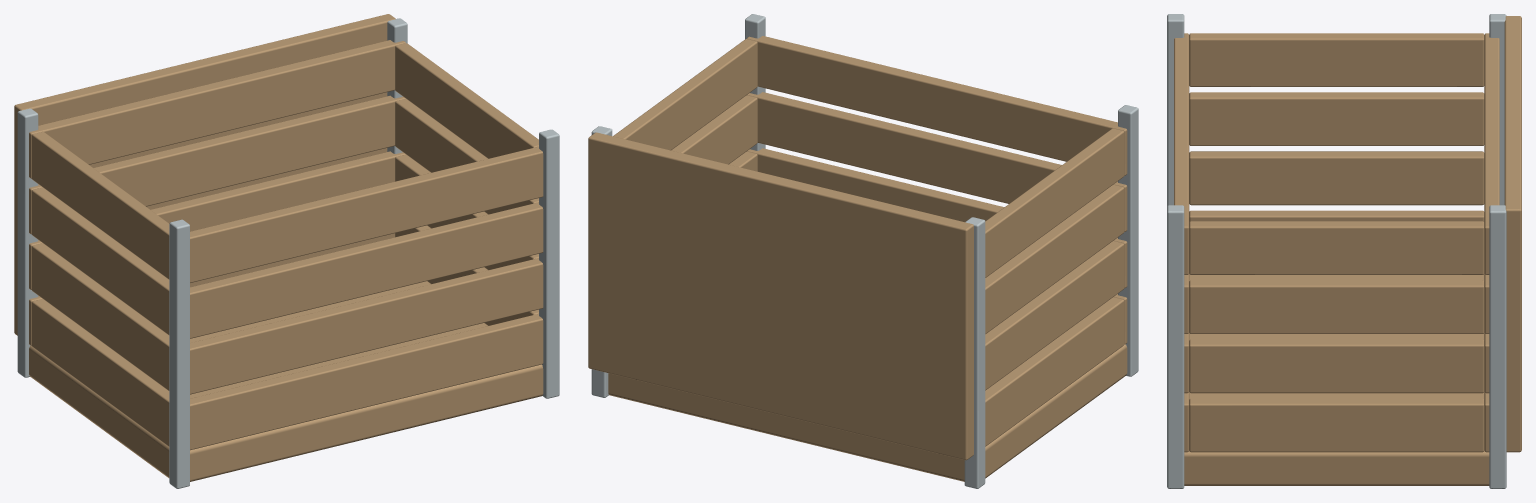
Rendered from container-inspection-and-customs-yard-container-inspec-1a79b22e__29317.glb.
The picture shows the model from 3 angles, left to right: view 1: azimuth 30°, elevation 25°; view 2: azimuth 150°, elevation 25°; view 3: azimuth 270°, elevation 25°; orthographic projection. The views are drawn at different scales.
Visible parts, largest first — view 1: container-inspection-and-customs-yard-opened-cargo-crate; view 2: container-inspection-and-customs-yard-opened-cargo-crate; view 3: container-inspection-and-customs-yard-opened-cargo-crate.
Part boxes in pixels (bbox=[...]): container-inspection-and-customs-yard-opened-cargo-crate: bbox=[14, 14, 559, 488]; container-inspection-and-customs-yard-opened-cargo-crate: bbox=[588, 14, 1138, 488]; container-inspection-and-customs-yard-opened-cargo-crate: bbox=[1167, 14, 1521, 488].
Size of the model in its own units: 1.23 by 0.8 by 0.925.
